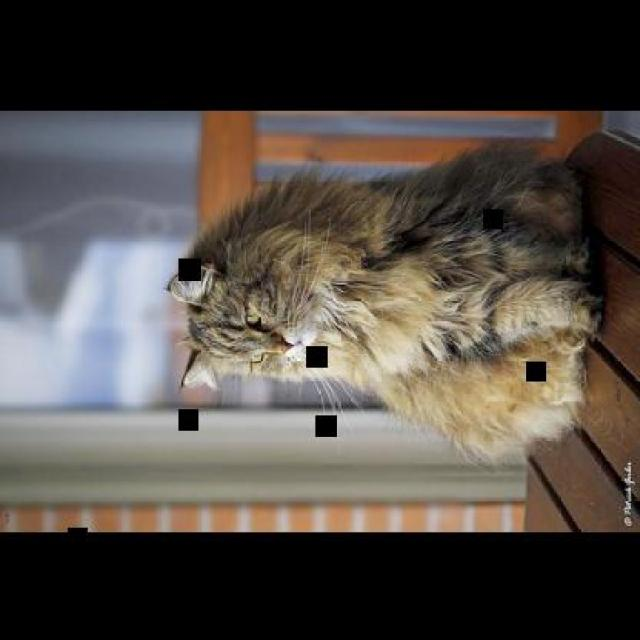unauthorized: (163, 138, 605, 468)
